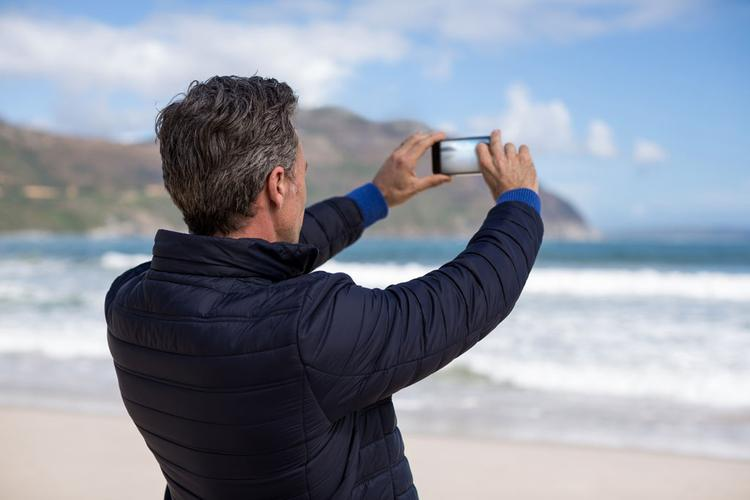taking photos: (373, 125, 544, 206)
